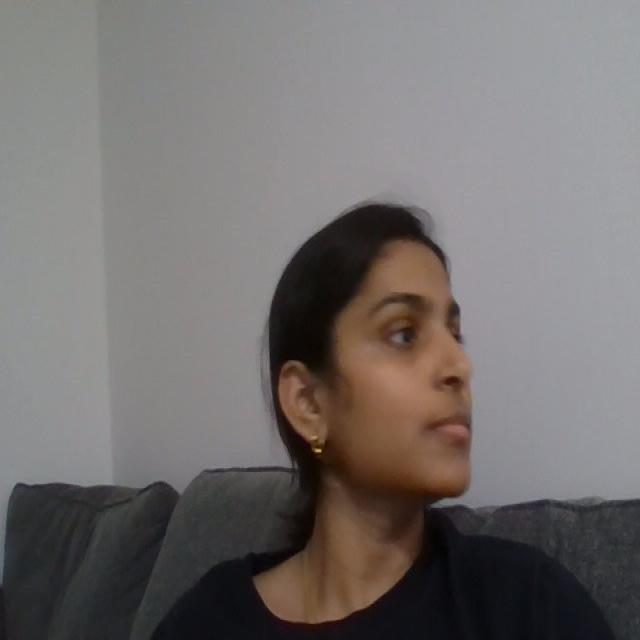No Hat: (255, 131, 534, 297)
